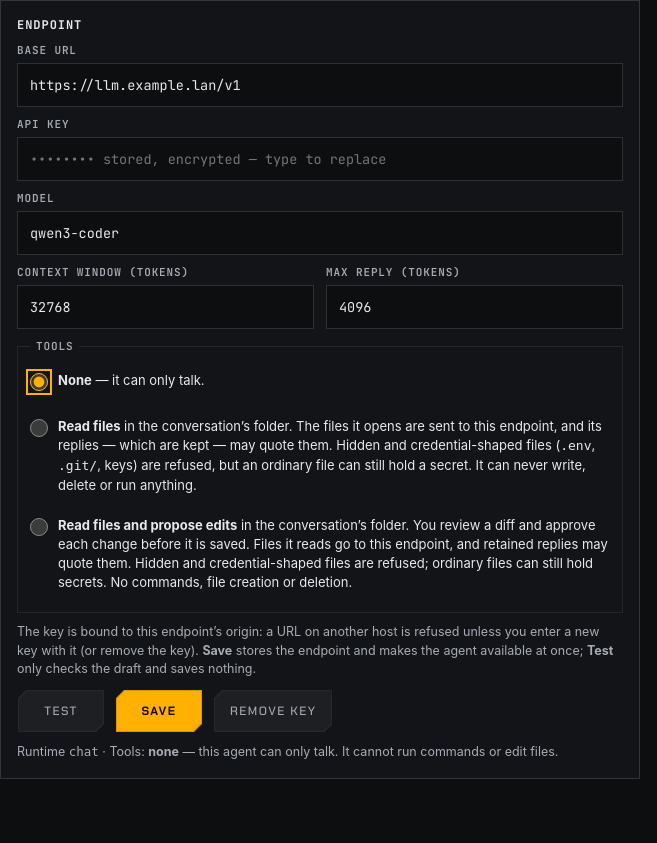
Test: Tools is chosen by keyboard and saved as its own field; the disclosure says what it costs
Expected: the radio button labelled "None — it can only talk." is checked, x1=30 y1=373 x2=48 y2=391
Expected: the label "Read files in" shows "sent to this endpoint", x1=58 y1=418 x2=602 y2=453
Press Arrowdown
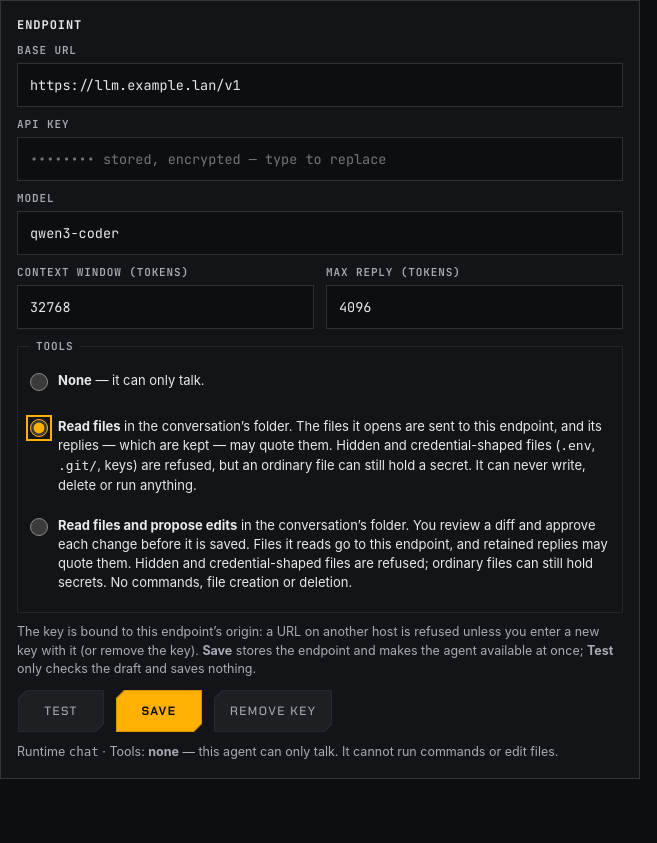
Expected: the radio button labelled "Read files in" is checked, x1=30 y1=419 x2=48 y2=437
Click the button "Save". click: (159, 711)
box: x1=115 y1=689 x2=203 y2=733
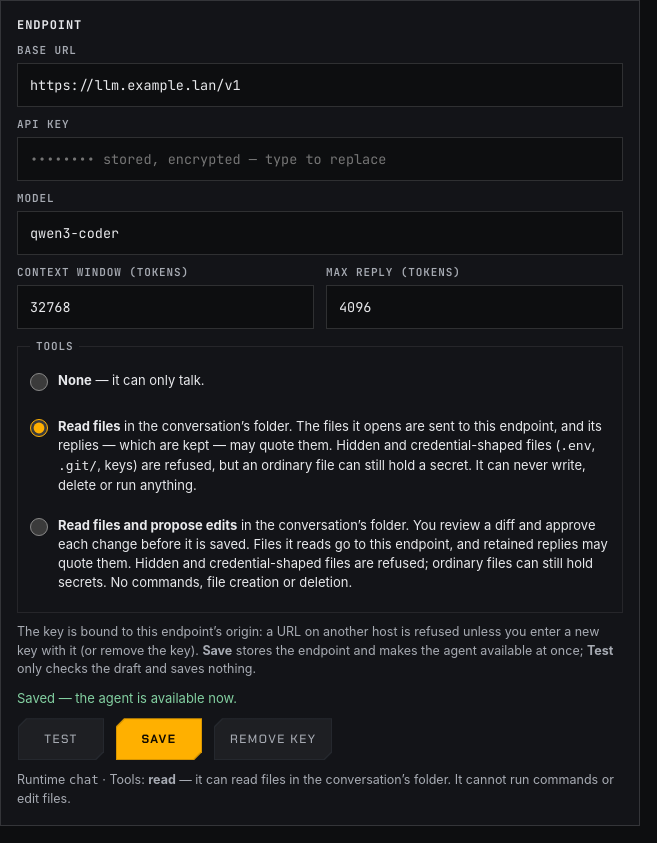
Expected: the text "it can read files in the conversation’s folder" is shown, x1=17 y1=772 x2=614 y2=806
